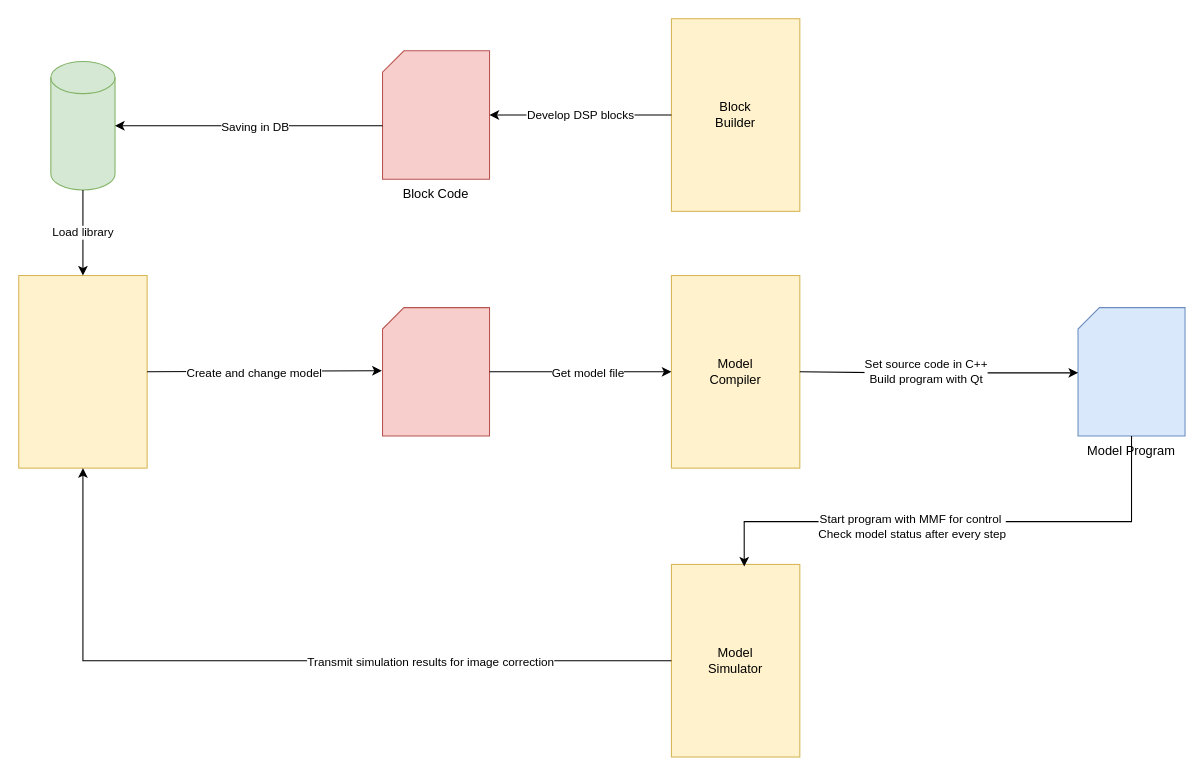
The diagram is 1204 pixels wide and 776 high, and some of its shapes have lost their labels. Here are the shapes that lost their labels. From the top down, the centre of each, then its label:
At (82,125): "Models Library".
At (82,371): "Model Builder".
At (435,371): "Model File".
